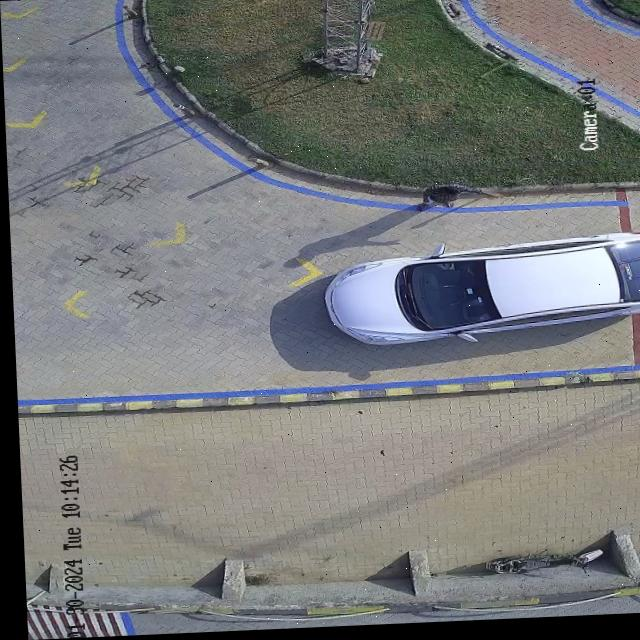car: (324, 238, 640, 346)
